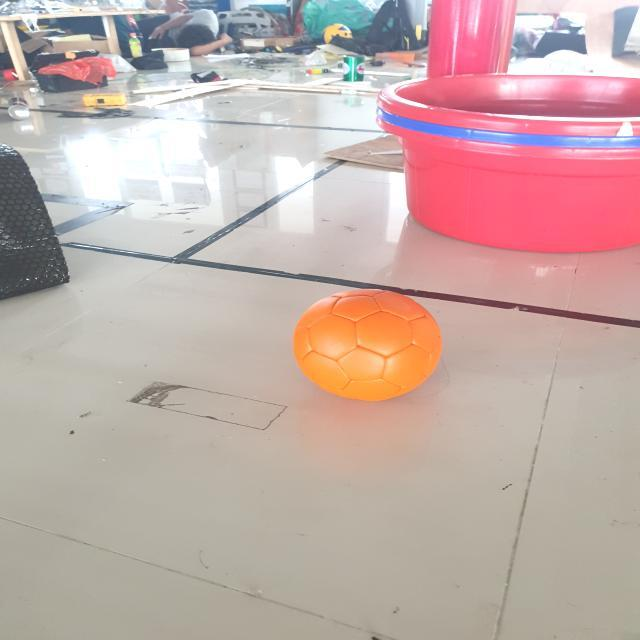bola: (281, 276, 451, 408)
